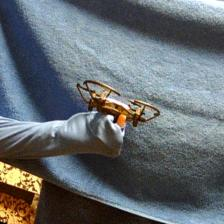drone: (75, 78, 164, 130)
